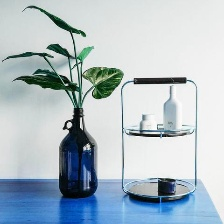bottle: (54, 105, 100, 201), (160, 83, 186, 134), (137, 112, 158, 132)
